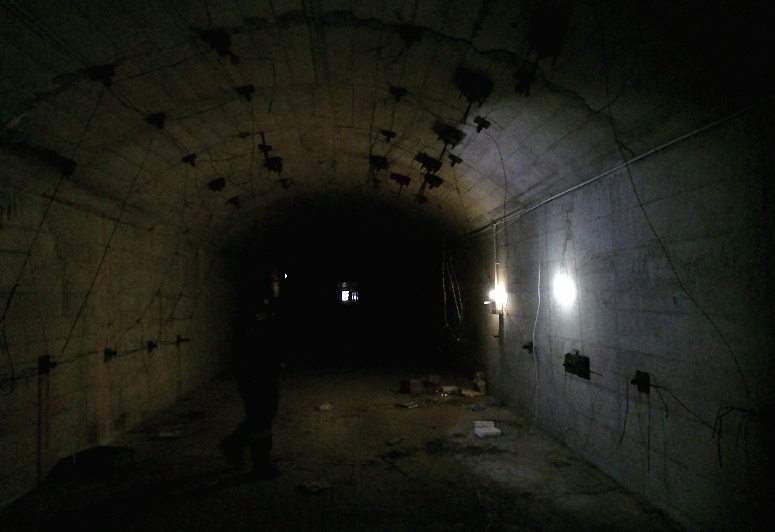person: (199, 267, 289, 477)
